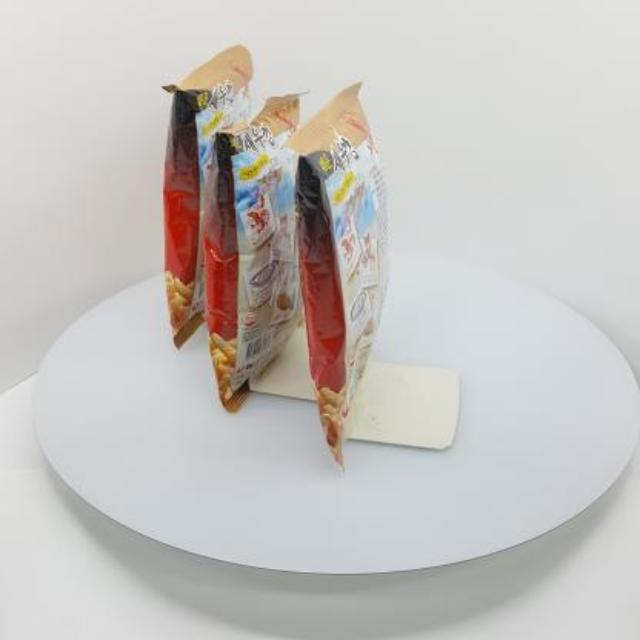snack_bag: (153, 39, 411, 480)
